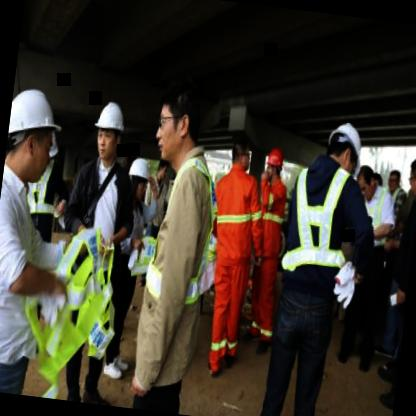helmet: (2, 82, 64, 188), (323, 120, 368, 176), (90, 100, 126, 161), (123, 156, 151, 200), (262, 146, 286, 182)
